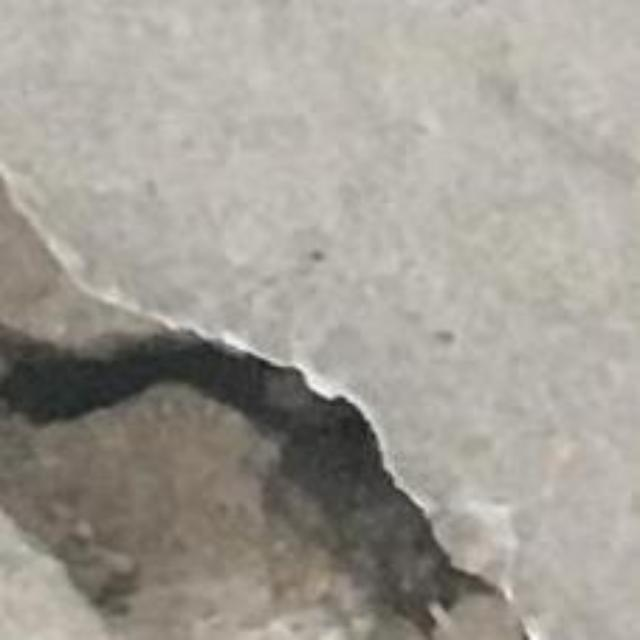crack: (0, 178, 504, 639)
